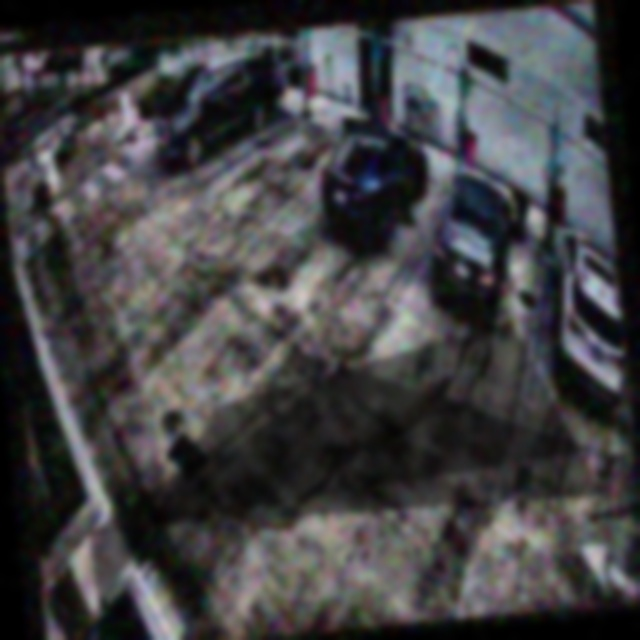Car: (146, 48, 286, 176), (315, 114, 436, 251), (425, 165, 522, 317)
